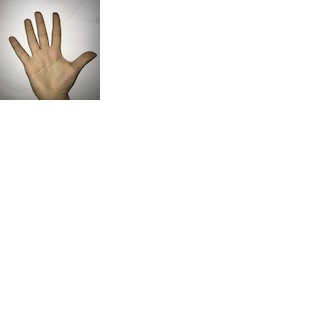paper: (6, 10, 98, 95)
